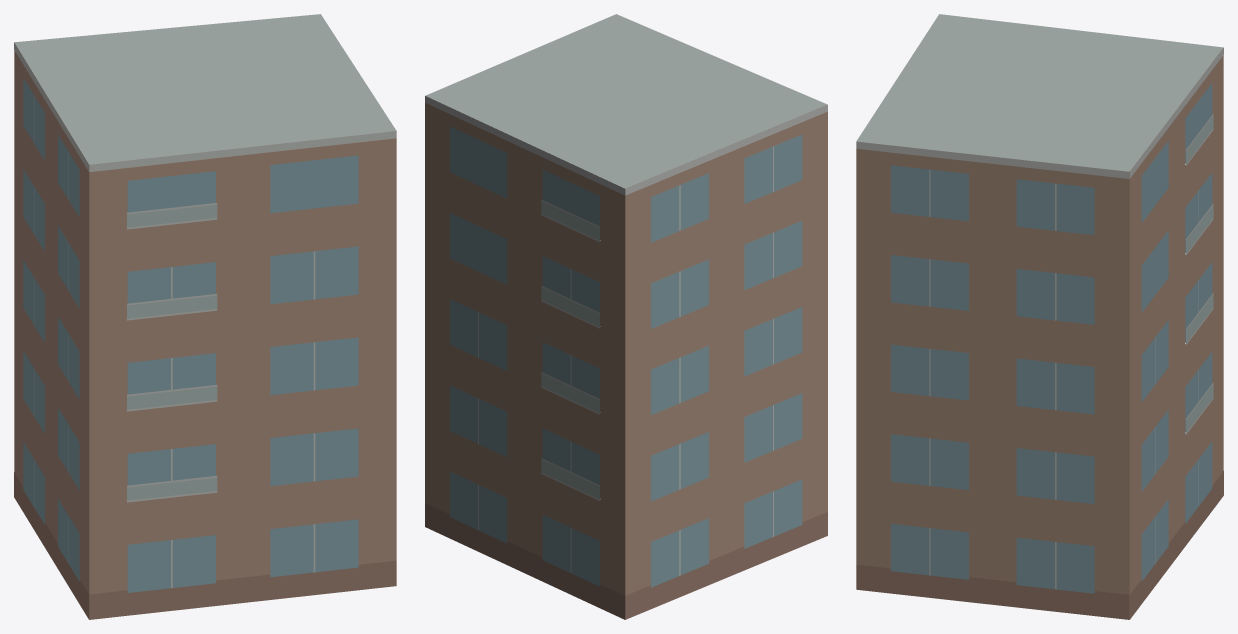
The model's file is survey-upis-33000358.glb.
3 views of the same model, side by side, from view 1: azimuth 30°, elevation 25°; view 2: azimuth 150°, elevation 25°; view 3: azimuth 270°, elevation 25° (orthographic). The views are drawn at different scales.
Visible parts, largest first — view 1: survey-upis-33000358.tmp; view 2: survey-upis-33000358.tmp; view 3: survey-upis-33000358.tmp.
Boxes of the visible parts, box(x1,y1,x2,y2) form: survey-upis-33000358.tmp: box(14, 14, 396, 619); survey-upis-33000358.tmp: box(425, 14, 827, 619); survey-upis-33000358.tmp: box(856, 14, 1223, 619).
Size of the model in its own units: 11.49 by 15.2 by 11.31.
